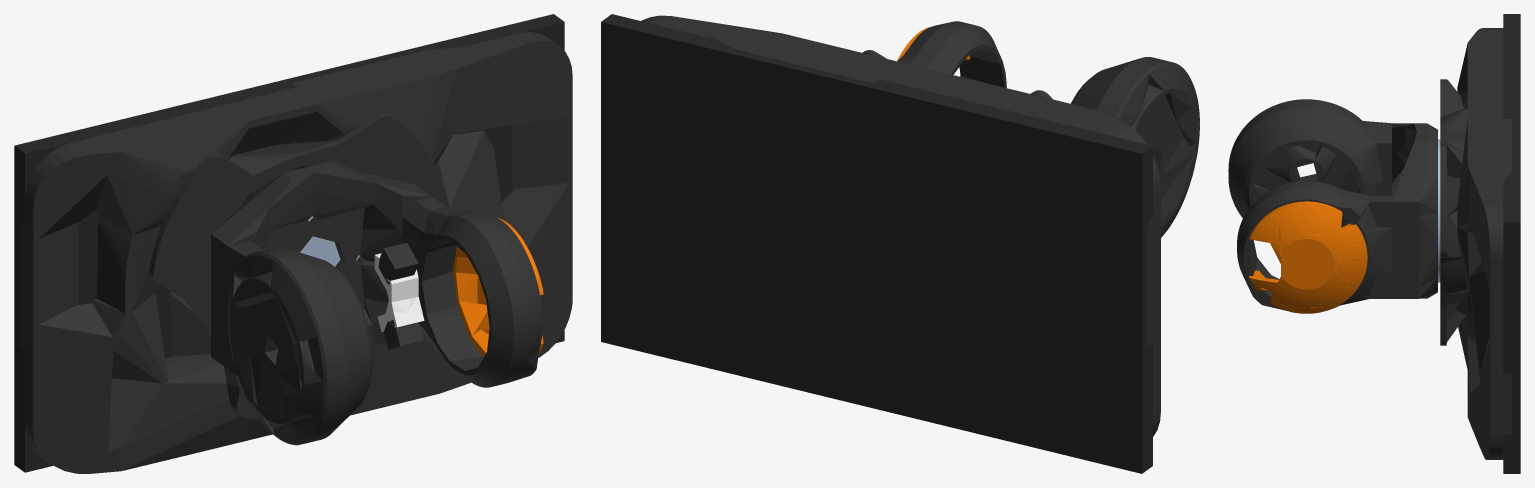
The model's file is RLEG_LINK5_mesh.dae.
3 views of the same model, side by side, from view 1: azimuth 30°, elevation 25°; view 2: azimuth 150°, elevation 25°; view 3: azimuth 270°, elevation 25° (orthographic). The views are drawn at different scales.
Parts seen in each view (by area): view 1: RLEG_LINK5 (×12); view 2: RLEG_LINK5 (×5); view 3: RLEG_LINK5 (×9).
Boxes of the visible parts, left/top/right/bottom form: RLEG_LINK5 (×12): left=14, top=14, right=572, bottom=473; RLEG_LINK5 (×5): left=601, top=14, right=1199, bottom=473; RLEG_LINK5 (×9): left=1228, top=14, right=1520, bottom=473.
Size of the model in its own units: 0.23 by 0.13 by 0.1365.
